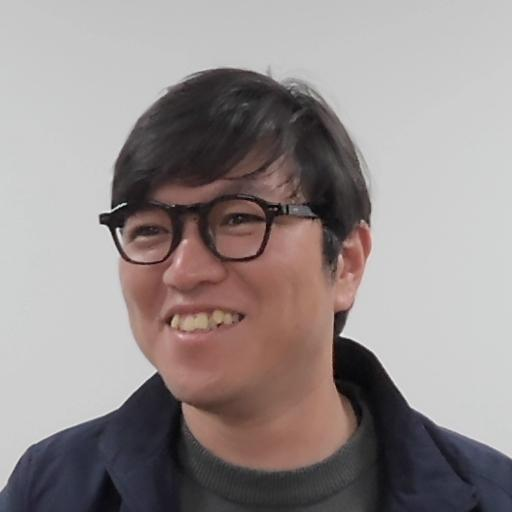no_glasses: (94, 60, 380, 392)
